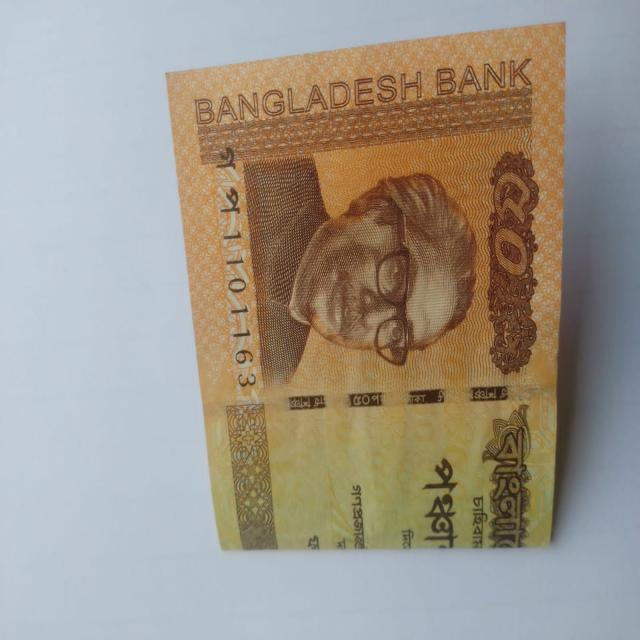Taka: (146, 6, 565, 554)
